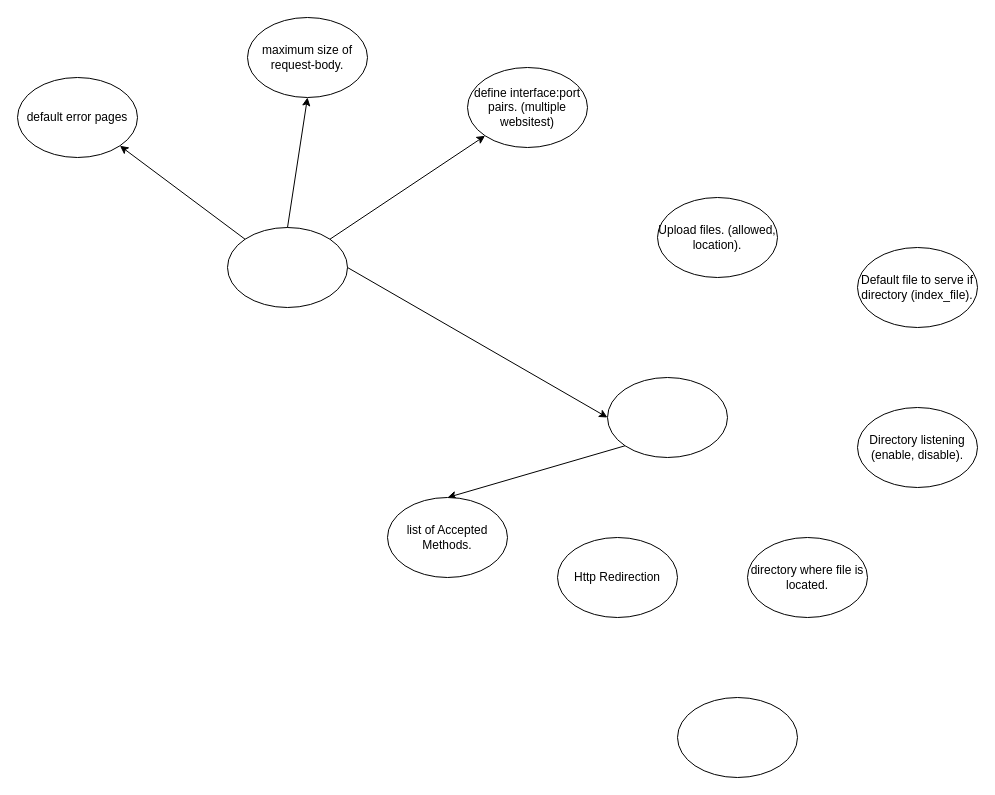
Image size: 995x795. Some labels were removed from this diagram. Each missing label, with the centre of its shape:
CONFIG FILE: (287,267)
specify rules on URL/route: (667,417)
